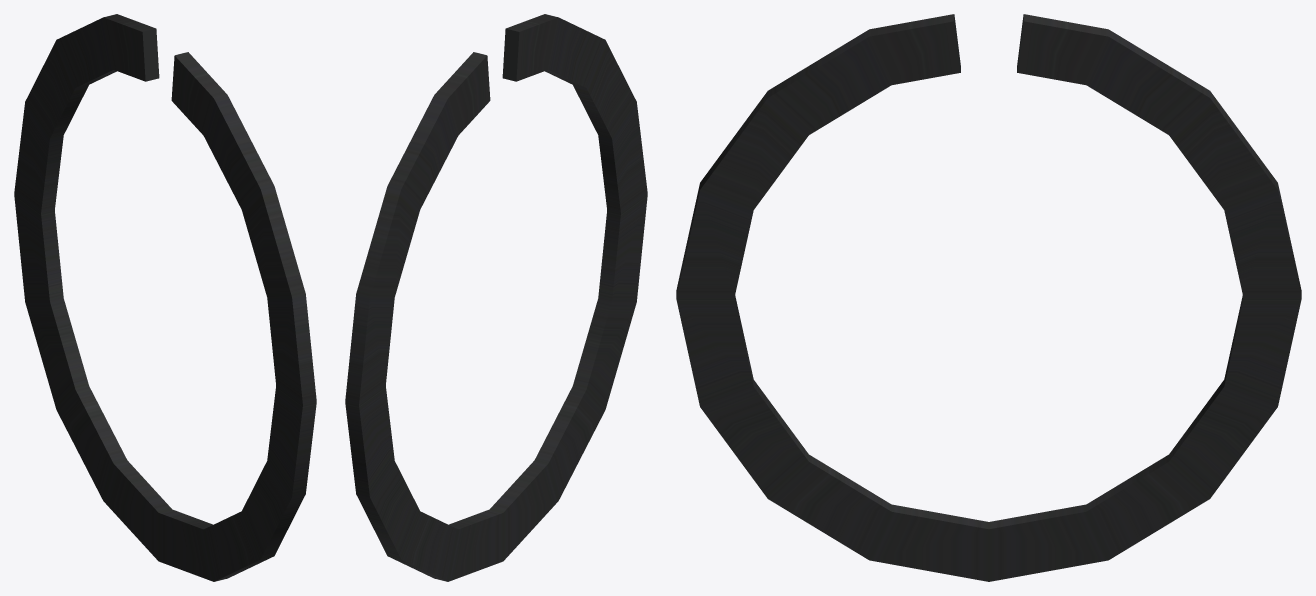
File: Handguard_Slip_Ring_Retaining_Ring.dae
3 views of the same model, side by side, from view 1: azimuth 30°, elevation 25°; view 2: azimuth 150°, elevation 25°; view 3: azimuth 270°, elevation 25° (orthographic). The views are drawn at different scales.
Parts seen in each view (by area): view 1: Handguard_Slip_Ring_Retaining_Ring; view 2: Handguard_Slip_Ring_Retaining_Ring; view 3: Handguard_Slip_Ring_Retaining_Ring.
Boxes of the visible parts, x1,y1,x2,y2 form: Handguard_Slip_Ring_Retaining_Ring: (14, 14, 316, 581); Handguard_Slip_Ring_Retaining_Ring: (345, 14, 647, 581); Handguard_Slip_Ring_Retaining_Ring: (676, 14, 1301, 581).
Size of the model in its own units: 0.00118 by 0.0428 by 0.0423.
Materials: 1 (1 with a texture image).
